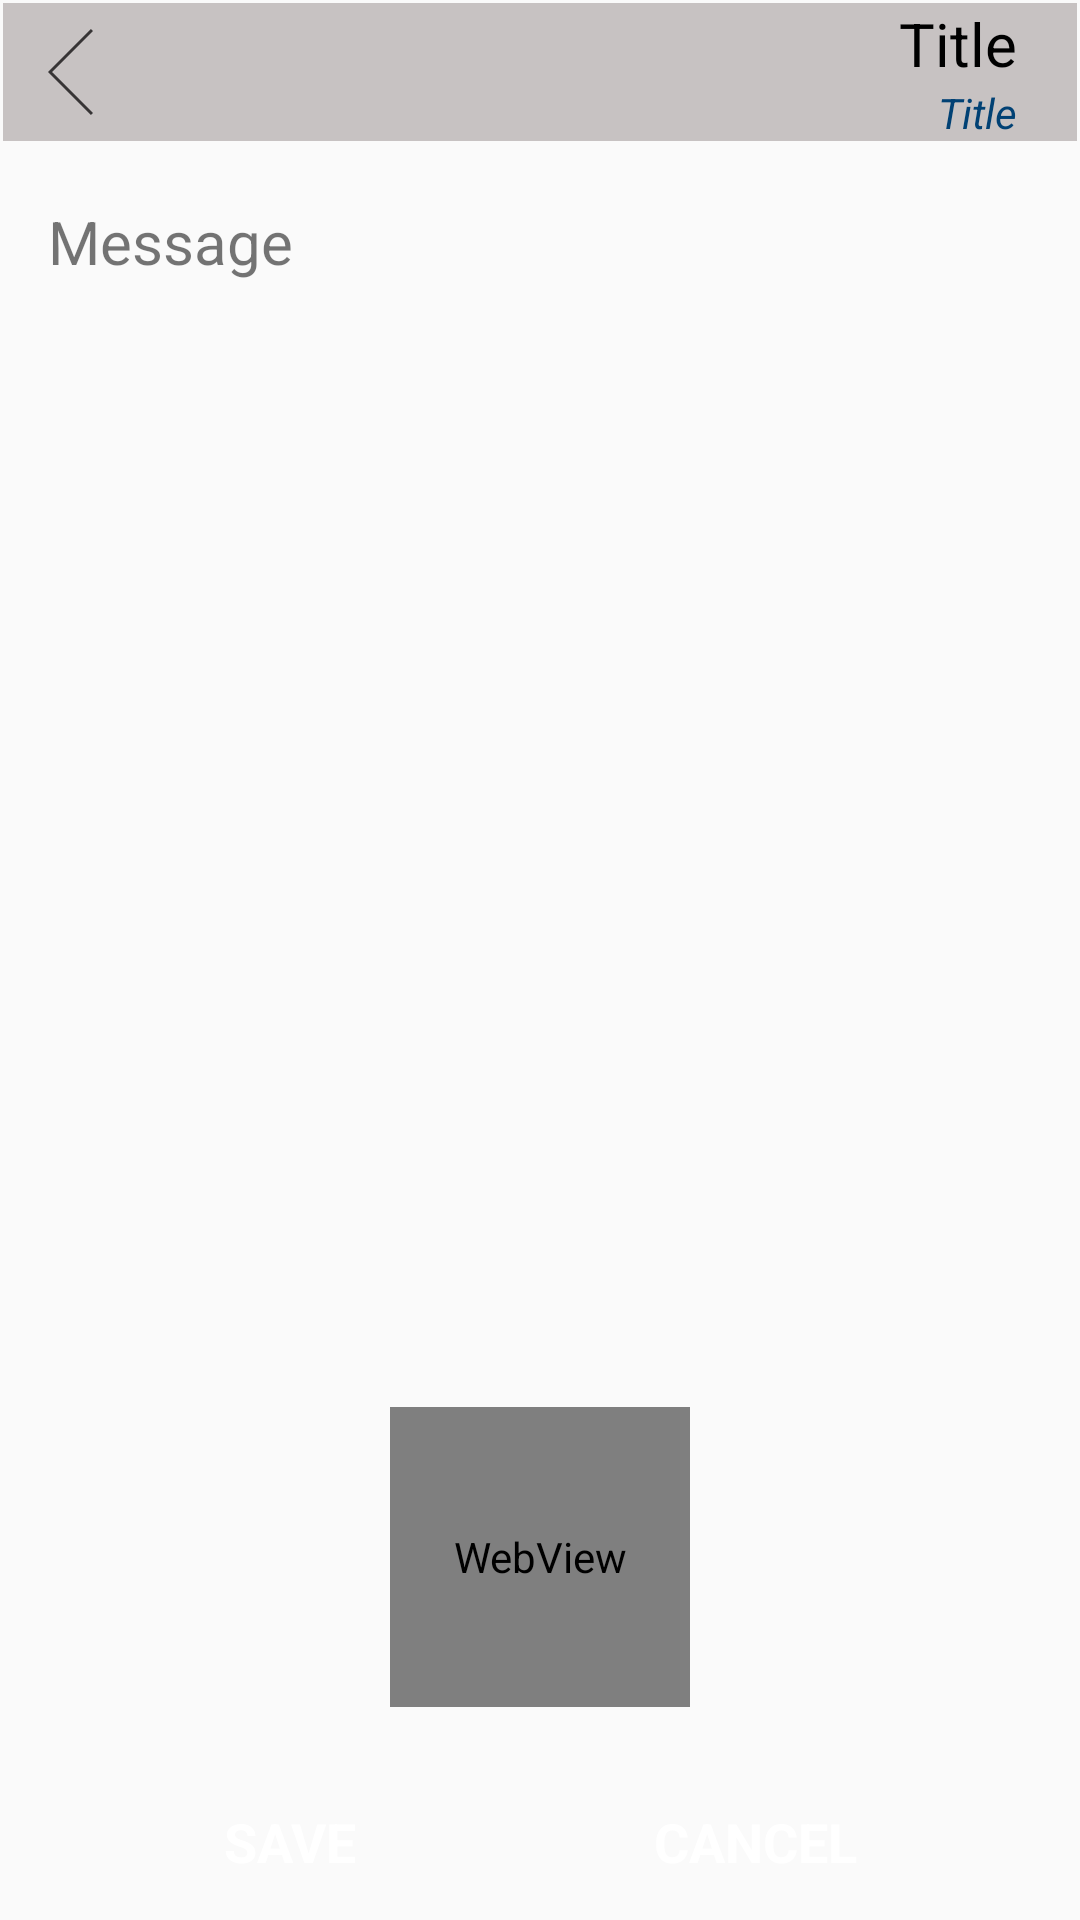

Locate icon controls on the screen. Image size 1080px×1920px, boxes as (x1, y1, x2, y2).
left: (48, 29, 93, 115)
